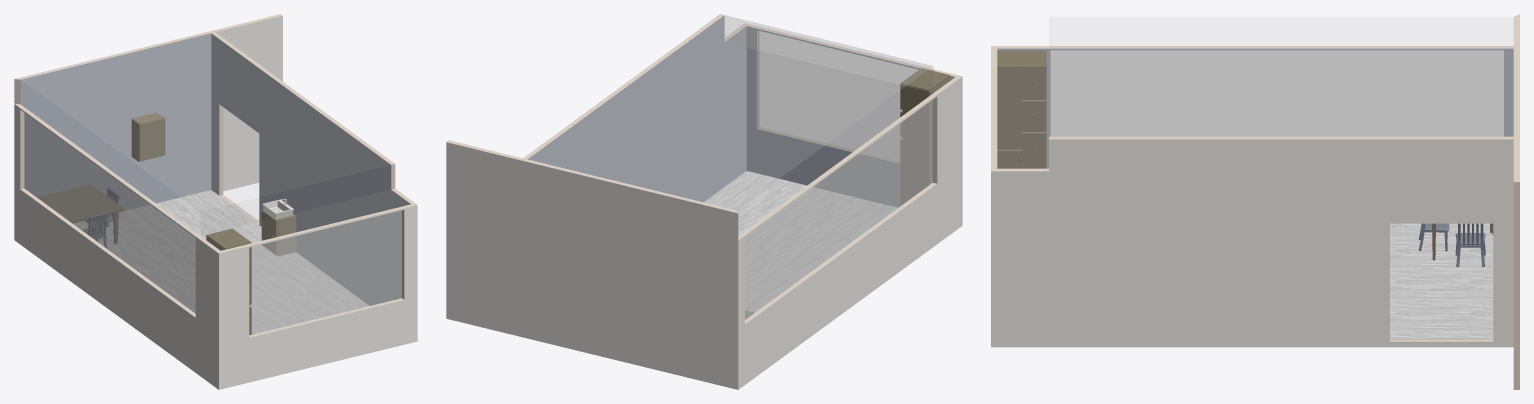
The model's file is StudyRoom 1.fbx.
3 views of the same model, side by side, from view 1: azimuth 30°, elevation 25°; view 2: azimuth 150°, elevation 25°; view 3: azimuth 270°, elevation 25° (orthographic). The views are drawn at different scales.
Parts seen in each view (by area): view 1: ceiling_Other_0 (×3), wall_1 (×3), window_1 (×2), window_0 (×2), wall_3 (×3), wall_0 (×3), wall_2 (×3), floor_Other_0, table0, storage2, storage1, storage0 (+2 smaller); view 2: wall_1 (×2), ceiling_Other_0 (×2), window_0 (×2), wall_3 (×2), window_1 (×2), wall_0 (×3), floor_Other_0, wall_2 (×3), storage0; view 3: wall_3 (×2), window_0 (×2), ceiling_Other_0 (×2), floor_Other_0, storage0, wall_0 (×2), wall_1 (×2), wall_2, chair0.
Boxes of the visible parts, left/top/right/bottom form: ceiling_Other_0 (×3): left=22, top=34, right=409, bottom=249; wall_1 (×3): left=15, top=14, right=282, bottom=223; window_1 (×2): left=250, top=210, right=401, bottom=334; window_0 (×2): left=24, top=113, right=195, bottom=312; wall_3 (×3): left=211, top=32, right=416, bottom=305; wall_0 (×3): left=14, top=103, right=220, bottom=389; wall_2 (×3): left=219, top=204, right=417, bottom=389; floor_Other_0: left=74, top=190, right=368, bottom=334; table0: left=37, top=184, right=123, bottom=243; storage2: left=131, top=112, right=165, bottom=161; storage1: left=261, top=209, right=296, bottom=255; storage0: left=206, top=228, right=251, bottom=335; wall_1 (×2): left=446, top=140, right=738, bottom=389; ceiling_Other_0 (×2): left=529, top=15, right=932, bottom=209; window_0 (×2): left=745, top=100, right=932, bottom=319; wall_3 (×2): left=523, top=14, right=746, bottom=202; window_1 (×2): left=757, top=31, right=917, bottom=151; wall_0 (×3): left=738, top=76, right=962, bottom=389; floor_Other_0: left=704, top=171, right=897, bottom=312; wall_2 (×3): left=745, top=23, right=961, bottom=207; storage0: left=900, top=68, right=950, bottom=205; wall_3 (×2): left=991, top=136, right=1513, bottom=347; window_0 (×2): left=1051, top=50, right=1503, bottom=136; ceiling_Other_0 (×2): left=998, top=17, right=1512, bottom=167; floor_Other_0: left=1390, top=223, right=1493, bottom=338; storage0: left=997, top=50, right=1046, bottom=168; wall_0 (×2): left=992, top=46, right=1513, bottom=168; wall_1 (×2): left=1513, top=14, right=1519, bottom=389; wall_2: left=991, top=46, right=997, bottom=170; chair0: left=1455, top=223, right=1485, bottom=266.
Size of the model in its own units: 6.43 by 3.72 by 8.56.
Materials: 20 (1 with a texture image).
